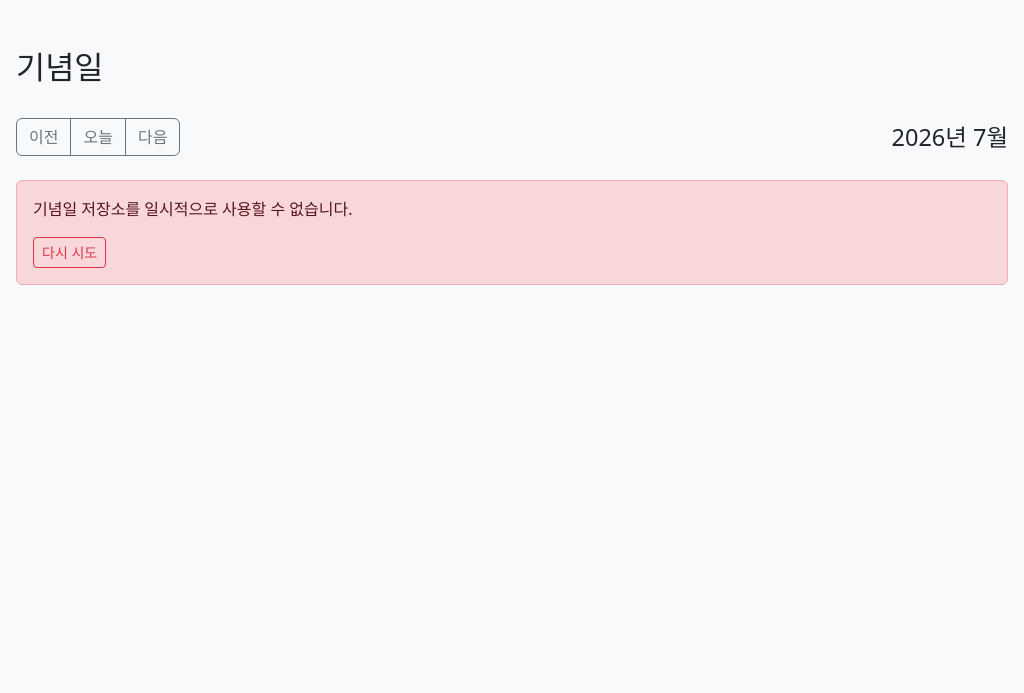
SpecialDaysView › 오류를 표시하고 같은 달을 다시 조회할 수 있다
This screenshot has width=1024, height=693.
Expected: the message shows "기념일 저장소를 일시적으로 사용할 수 없습니다.", [33,198,352,220]
Click the button "다시 시도": (70, 252) [33,237,106,268]
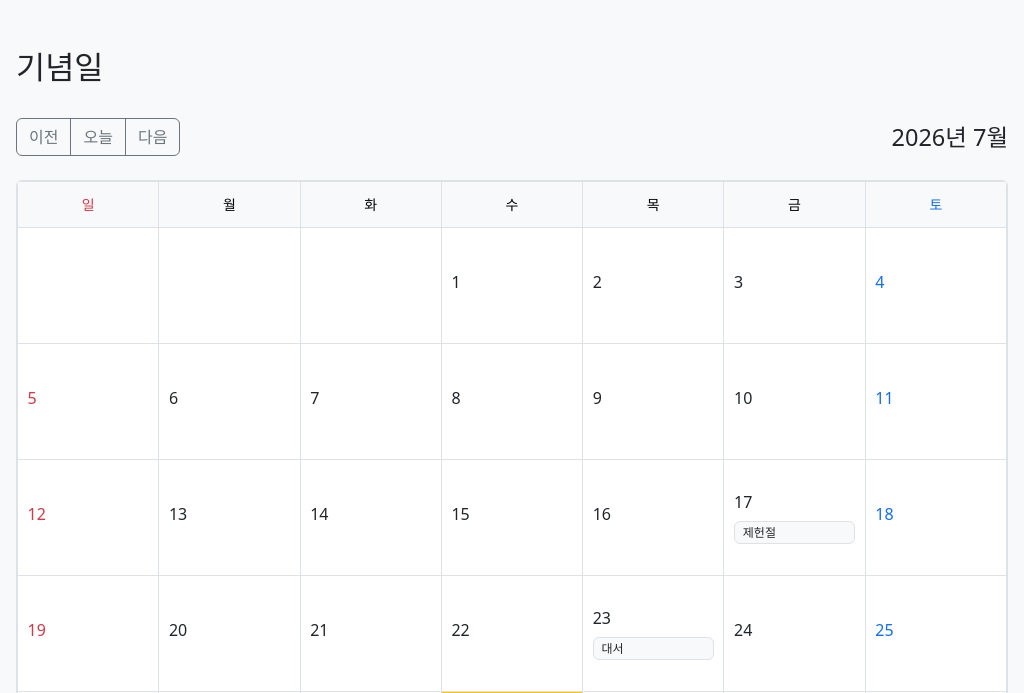
Now the button with aria-label "2026-07-17, 제헌절" is shown, box [724,460,865,575]
